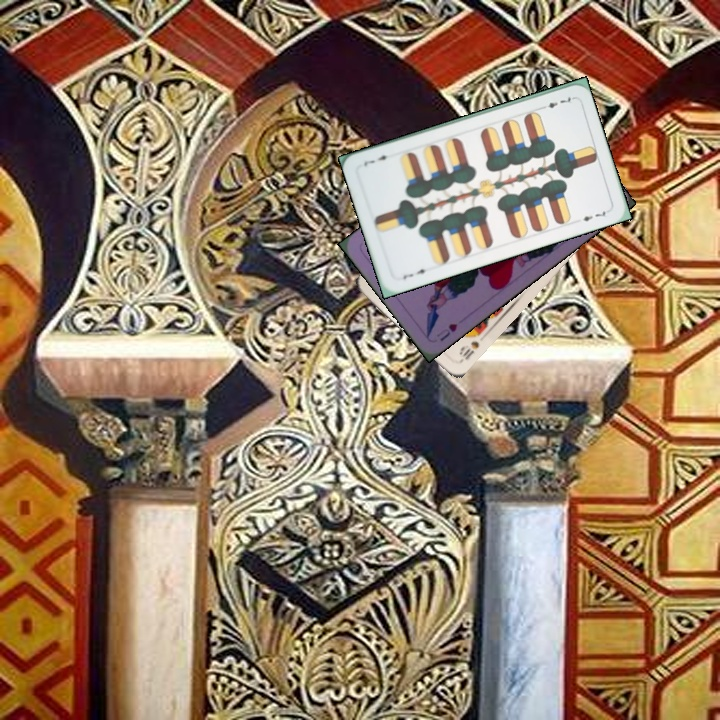E7: (536, 93, 576, 112), (399, 265, 433, 282)
HU: (432, 319, 460, 344)
S10: (455, 337, 482, 363)
